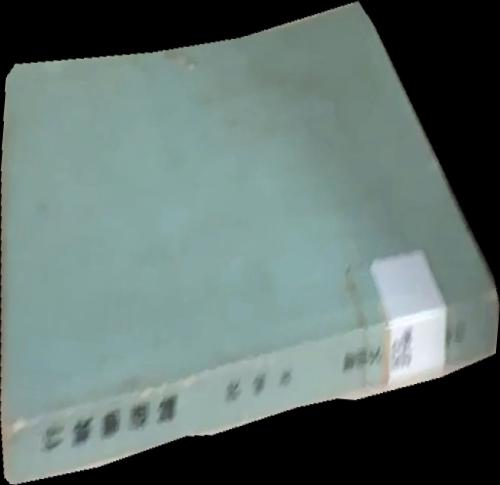flat: (1, 1, 500, 485)
